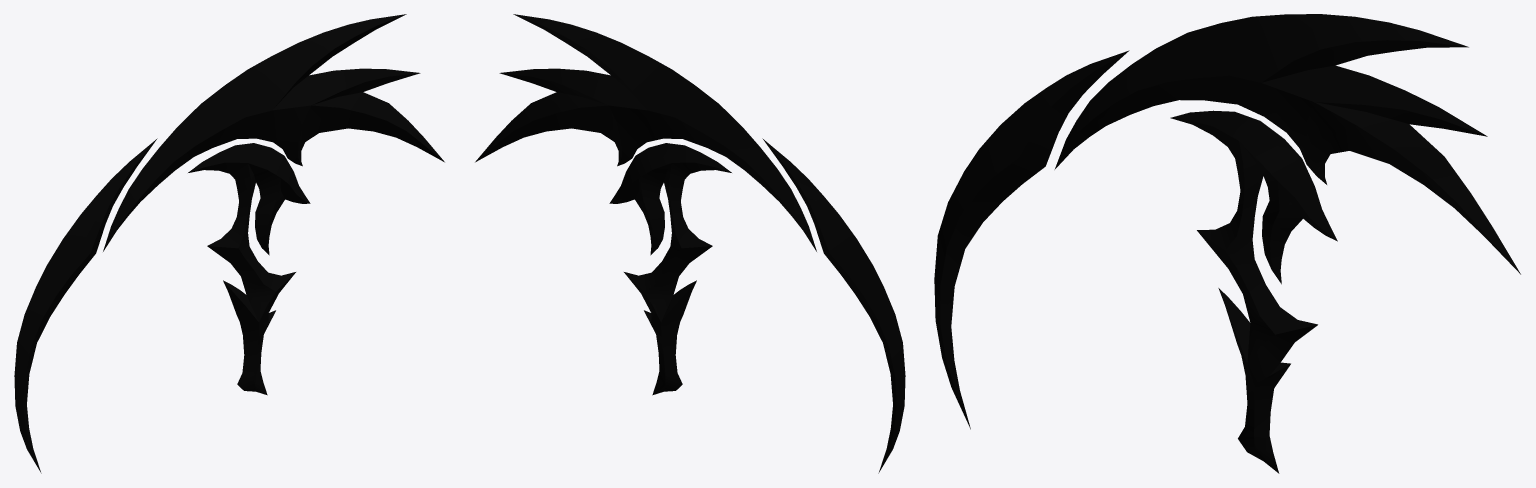
Rendered from sicke.fbx.
3 renders of one model, left to right at view 1: azimuth 30°, elevation 25°; view 2: azimuth 150°, elevation 25°; view 3: azimuth 330°, elevation 25°, orthographic. The views are drawn at different scales.
Parts seen in each view (by area): view 1: _1371_SiMaYi_WuQi_Mid; view 2: _1371_SiMaYi_WuQi_Mid; view 3: _1371_SiMaYi_WuQi_Mid.
Part boxes in pixels (x1,y1,x2,y2): _1371_SiMaYi_WuQi_Mid: (14, 14, 444, 473); _1371_SiMaYi_WuQi_Mid: (475, 14, 905, 473); _1371_SiMaYi_WuQi_Mid: (934, 14, 1520, 473).
Size of the model in its own units: 3.13 by 2.6 by 0.2335.
Materials: 1 (1 with a texture image).
